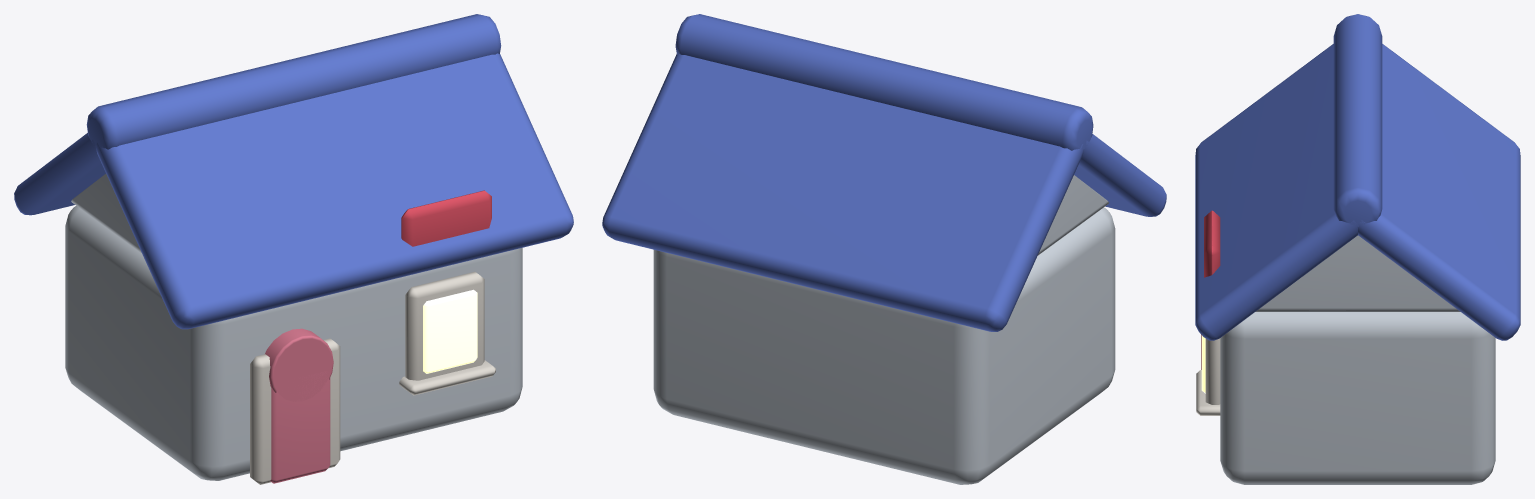
The model's file is corner_permit.glb.
The picture shows the model from 3 angles, left to right: view 1: azimuth 30°, elevation 25°; view 2: azimuth 150°, elevation 25°; view 3: azimuth 270°, elevation 25°; orthographic projection. The views are drawn at different scales.
Visible parts, largest first — view 1: Cube; view 2: Cube; view 3: Cube.
Part boxes in pixels (x1=…): Cube: x1=14, y1=14, x2=573, y2=484; Cube: x1=602, y1=14, x2=1166, y2=484; Cube: x1=1195, y1=14, x2=1520, y2=484.
Size of the model in its own units: 0.53 by 0.432 by 0.4014.
